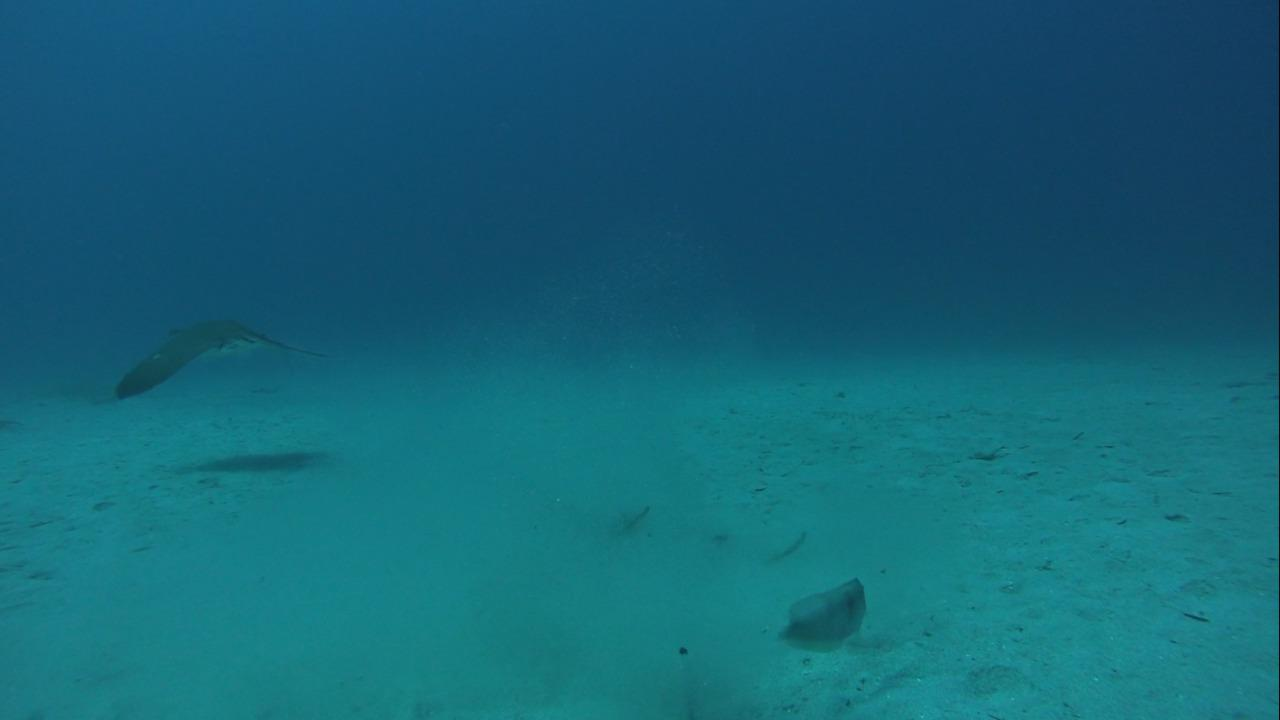myliobatis: (103, 307, 340, 400)
raor: (765, 572, 874, 658)
